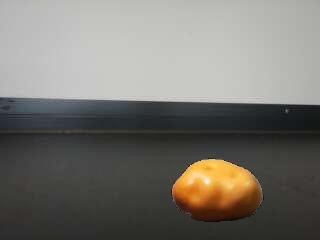Potato: (172, 158, 264, 223)
